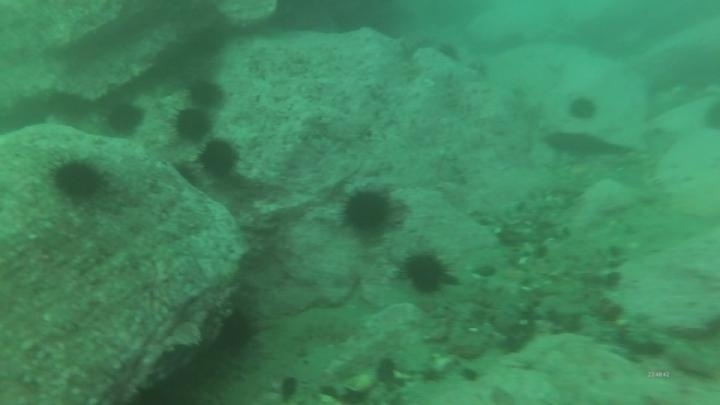echinus: (339, 184, 397, 238), (50, 156, 107, 203), (400, 249, 451, 296), (215, 308, 258, 355), (197, 137, 240, 180), (103, 100, 146, 138), (172, 106, 213, 143), (185, 76, 225, 110), (566, 94, 600, 124), (700, 99, 720, 135), (436, 40, 462, 65)
holothurian: (287, 312, 365, 347)
